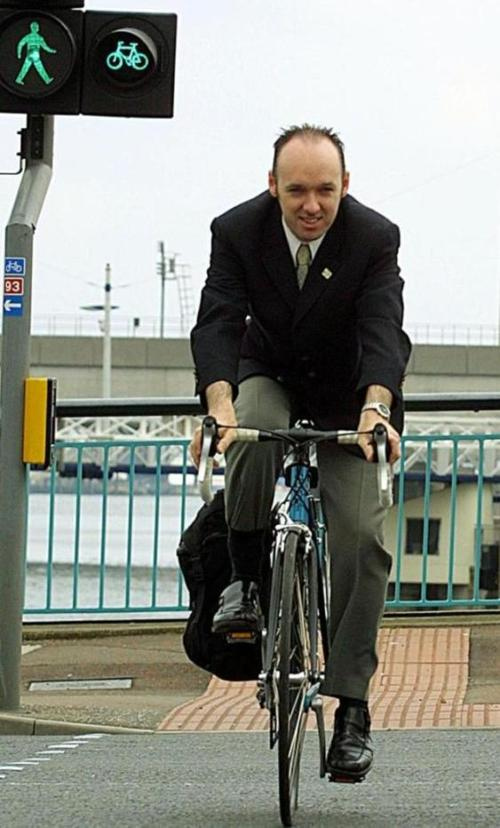person: (191, 120, 415, 790)
